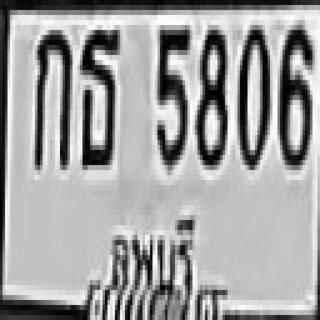A01: (32, 25, 70, 165)
A24: (79, 25, 119, 165)
N00: (235, 20, 268, 165)
N05: (155, 25, 188, 165)
N06: (278, 20, 310, 165)
N08: (195, 25, 225, 165)
P23: (102, 199, 203, 293)
